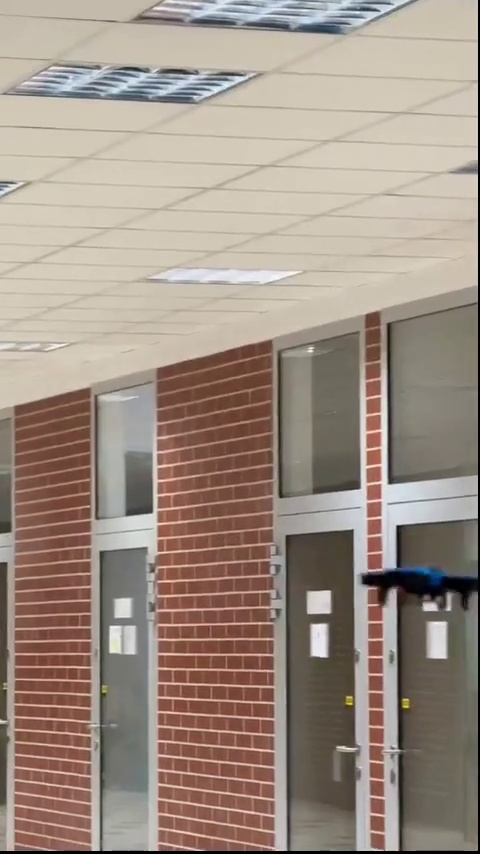drone: (358, 560, 479, 606)
